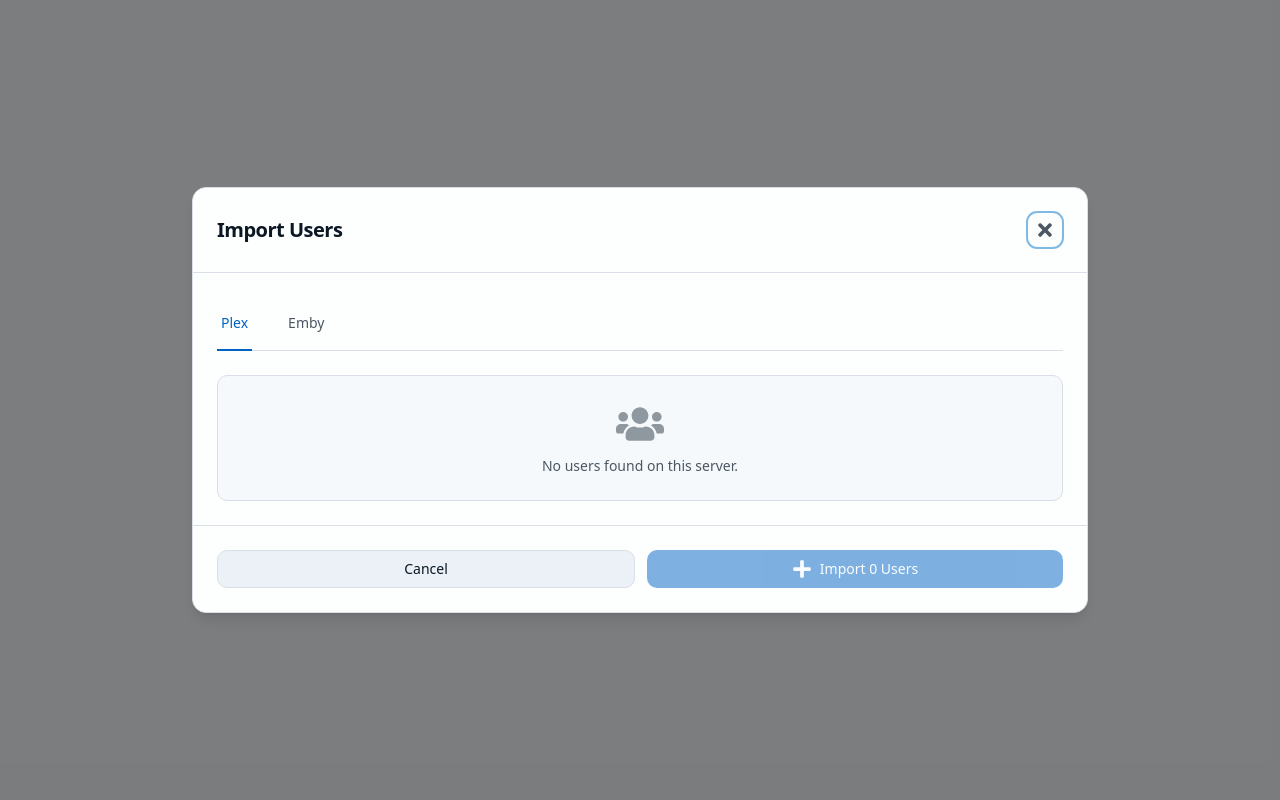
Test: UserImport › shows an Emby tab and reports when all Emby users are already imported
What coordinates should you click on to do the following:
click the button "Emby"
I would click on:
 (306, 324)
Its box is [284,297,328,351].
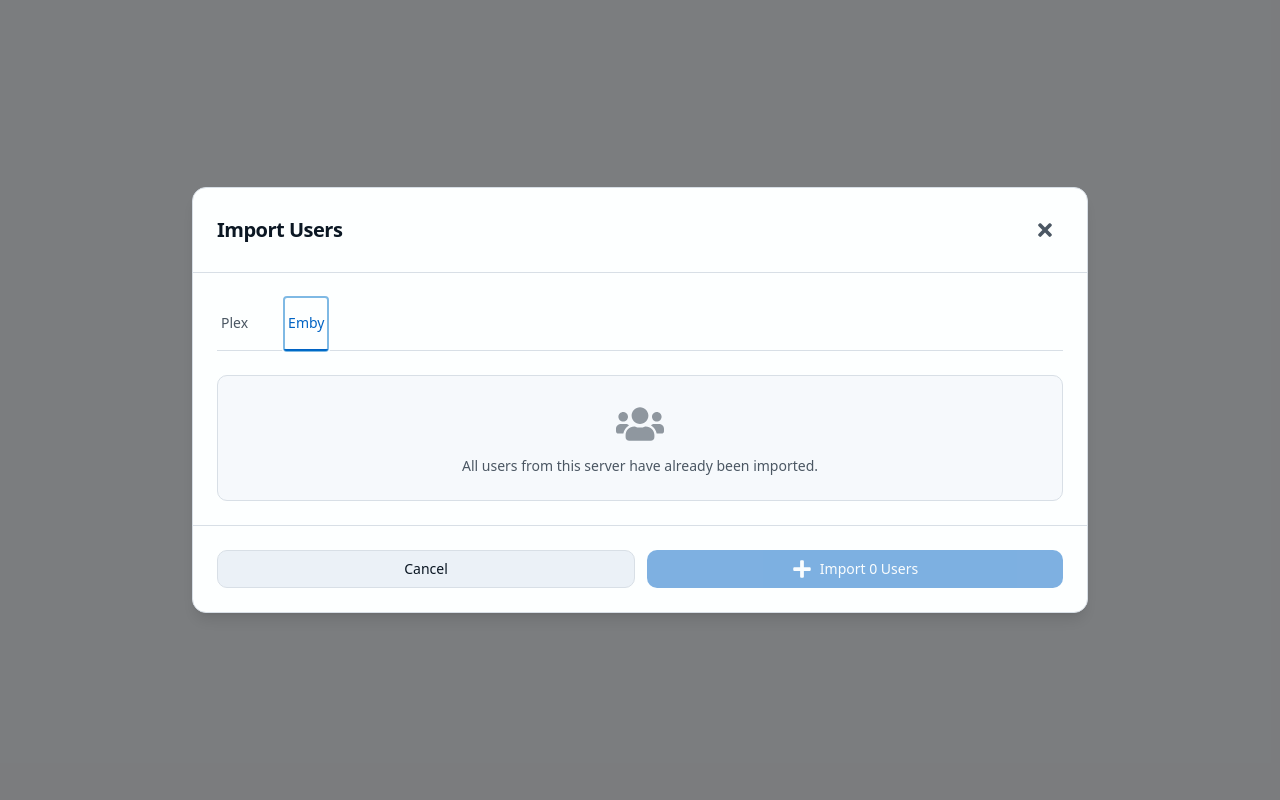
expect the text "All users from this server have already been imported." is shown: met, box [462,456,818,475]
